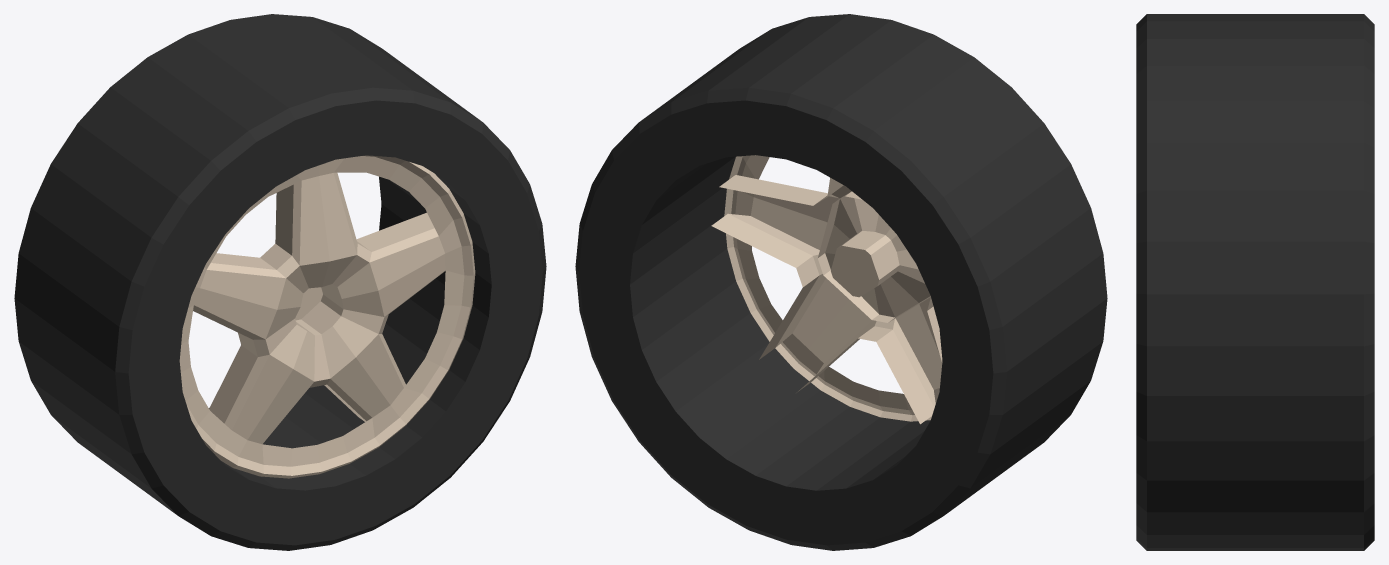
File: Audi Quattro S1 wheel.fbx
3 views of the same model, side by side, from view 1: azimuth 30°, elevation 25°; view 2: azimuth 150°, elevation 25°; view 3: azimuth 270°, elevation 25° (orthographic). The views are drawn at different scales.
Visible parts, largest first — view 1: Circle.001; view 2: Circle.001; view 3: Circle.001.
Part boxes in pixels (x1,y1,x2,y2): Circle.001: [14, 14, 546, 550]; Circle.001: [575, 14, 1107, 550]; Circle.001: [1136, 14, 1374, 550].
Size of the model in its own units: 215 by 215 by 95.22.
